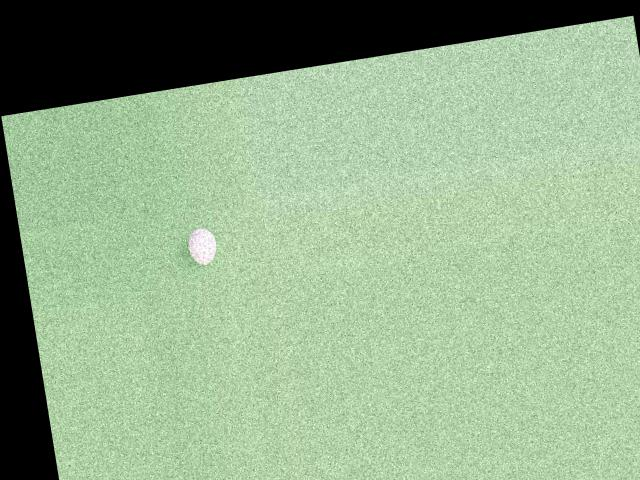egg: (185, 225, 219, 266)
